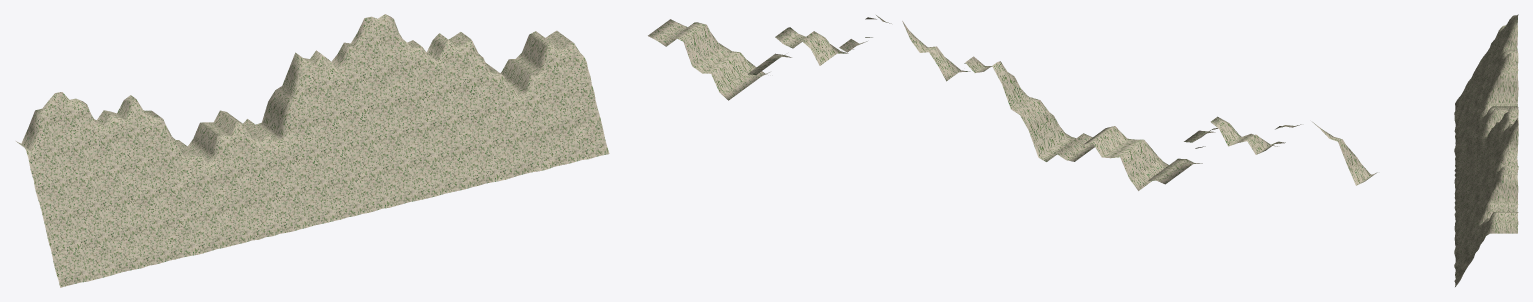
Rendered from mountain_backdrop.glb.
3 renders of one model, left to right at view 1: azimuth 30°, elevation 25°; view 2: azimuth 150°, elevation 25°; view 3: azimuth 270°, elevation 25°, orthographic. The views are drawn at different scales.
Parts seen in each view (by area): view 1: mountains; view 2: mountains; view 3: mountains.
Boxes of the visible parts, x1,y1,x2,y2 form: mountains: [16, 14, 609, 287]; mountains: [648, 15, 1377, 190]; mountains: [1454, 14, 1518, 286].
Size of the model in its own units: 1600 by 420 by 237.
Materials: 1 (1 with a texture image).
